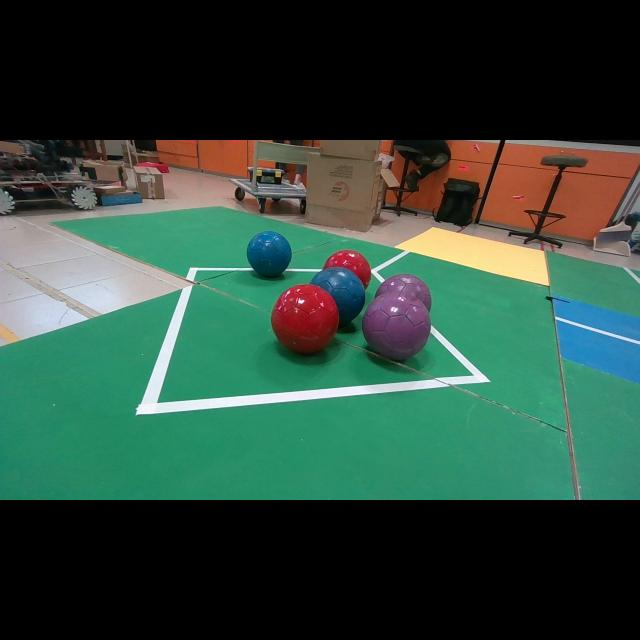B: (311, 266, 364, 327), (246, 231, 291, 278)
P: (364, 291, 431, 360), (375, 274, 431, 311)
R: (271, 284, 339, 353), (323, 250, 371, 288)
